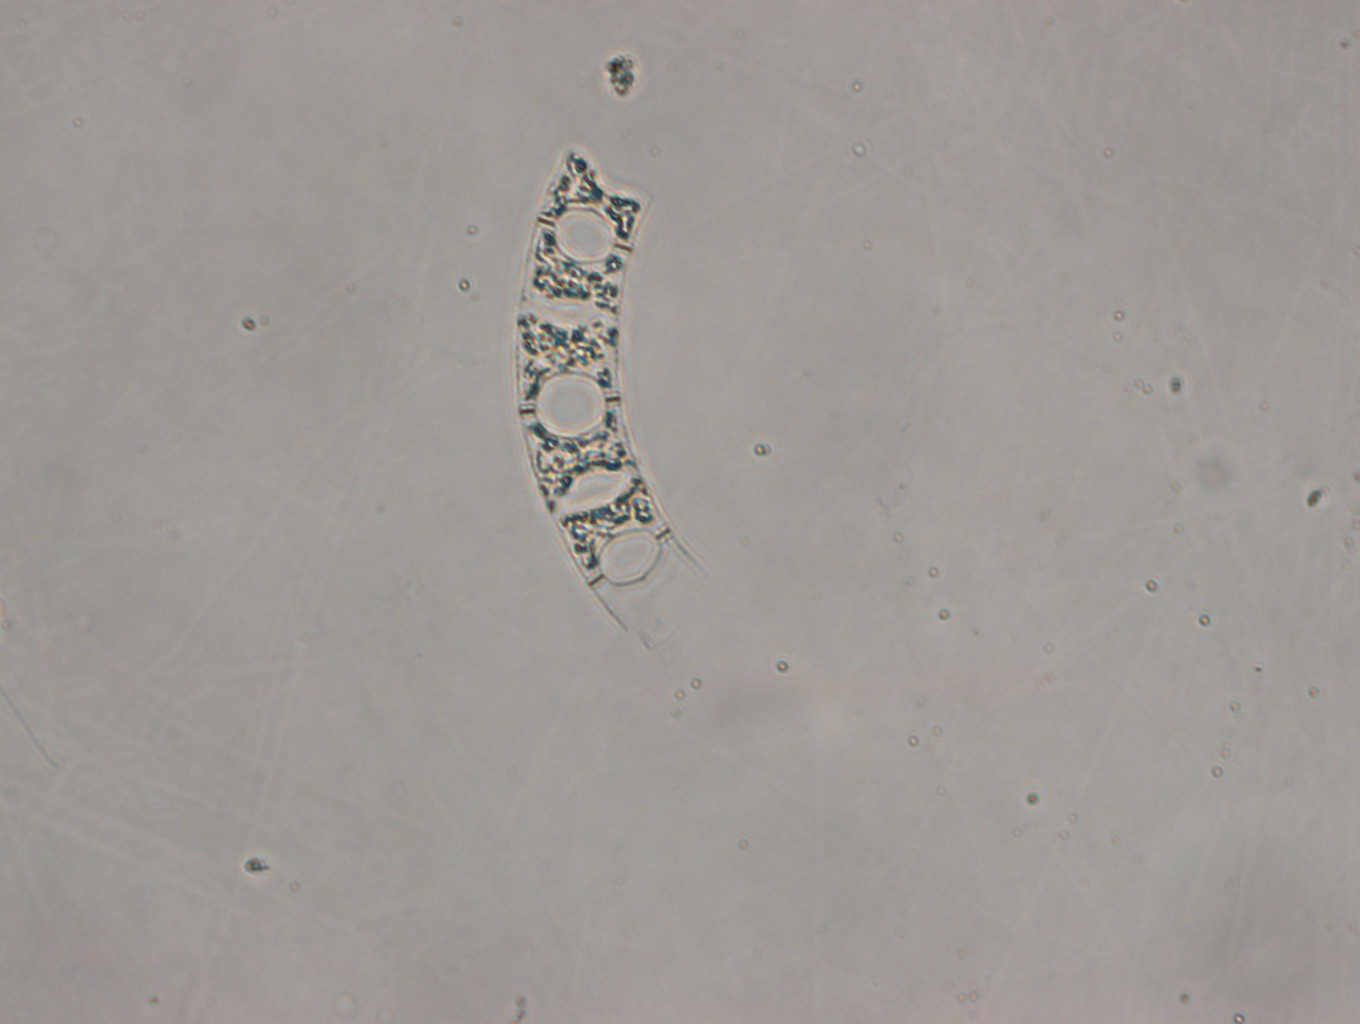eucampia: (511, 141, 701, 629)
